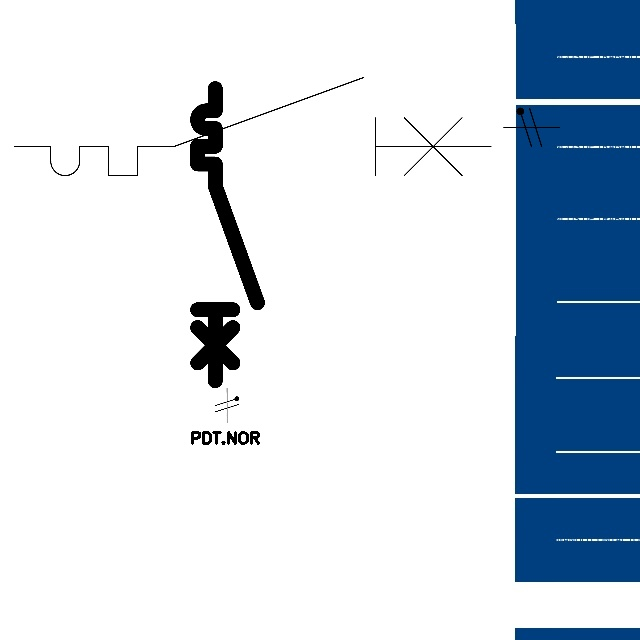interruptor_termomagnetico: (2, 65, 503, 188), (190, 81, 265, 388)
